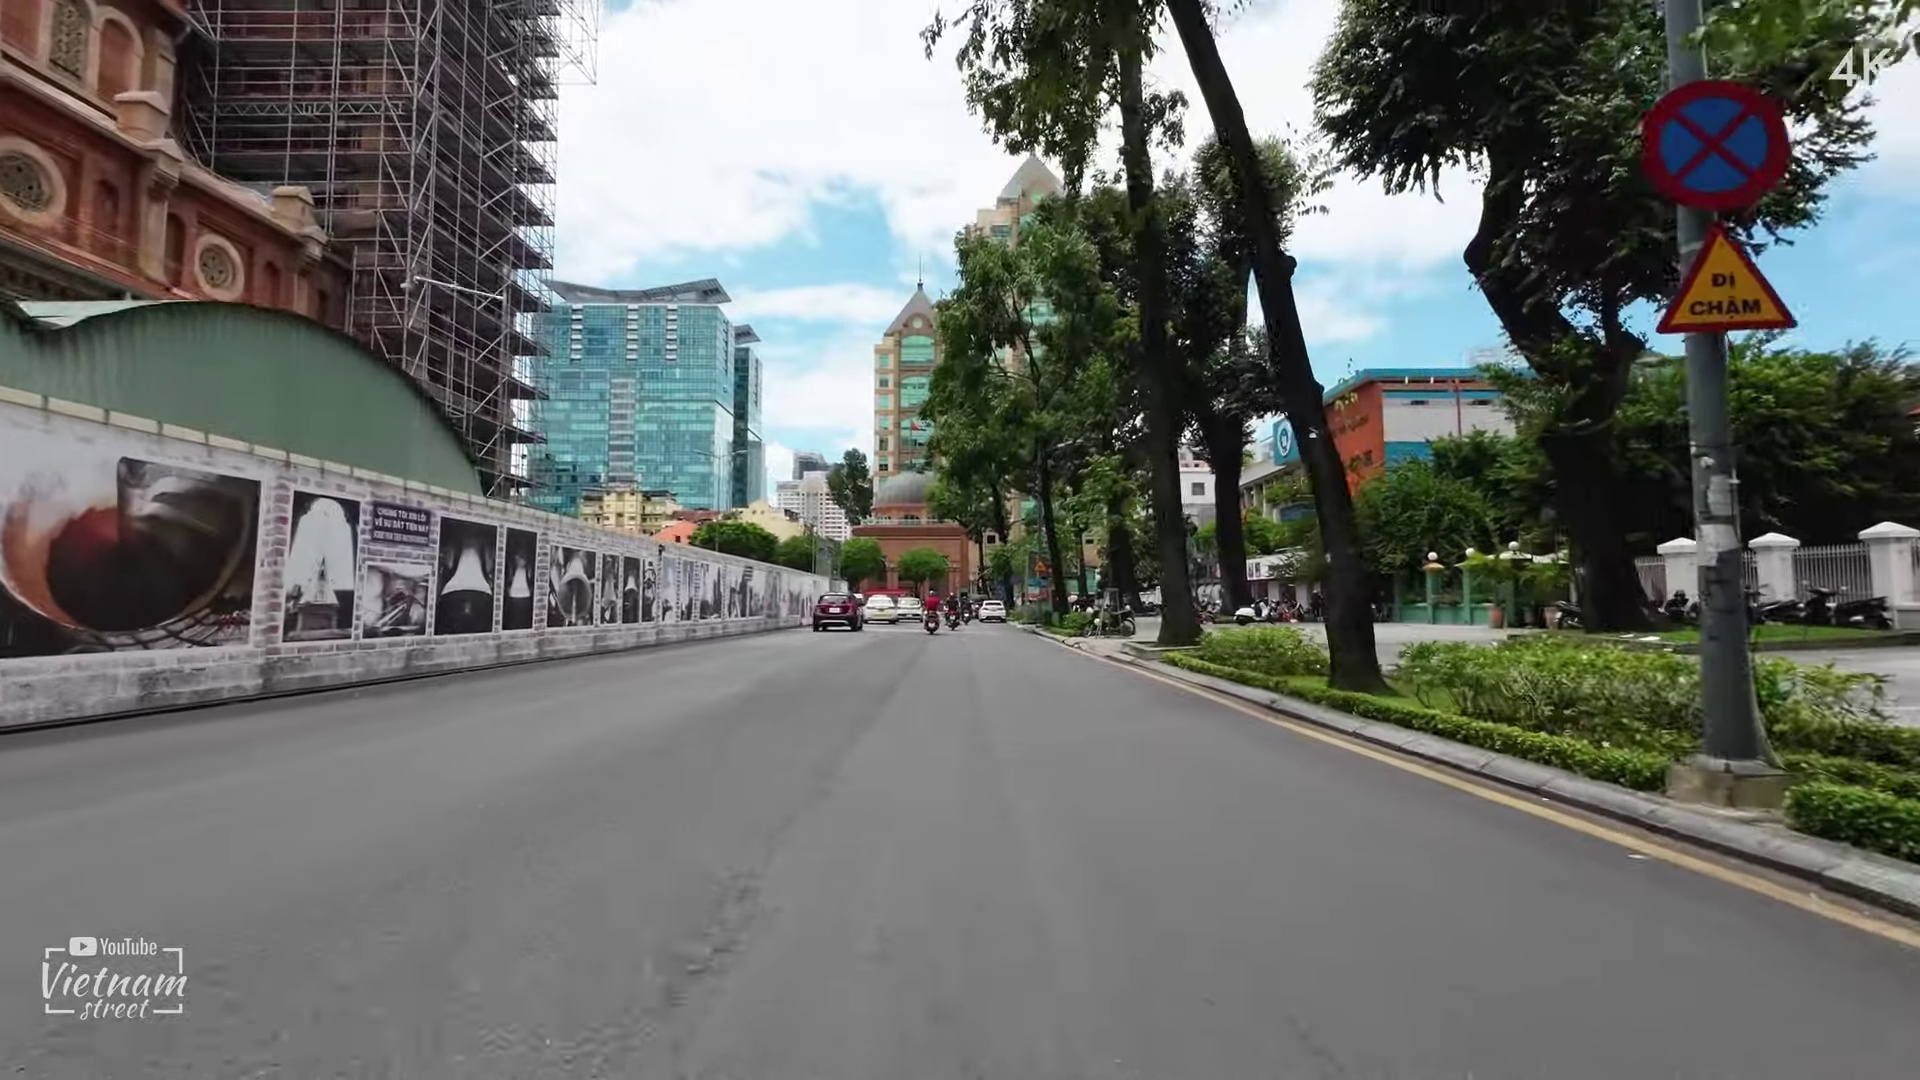di_cham: (1648, 220, 1803, 338)
